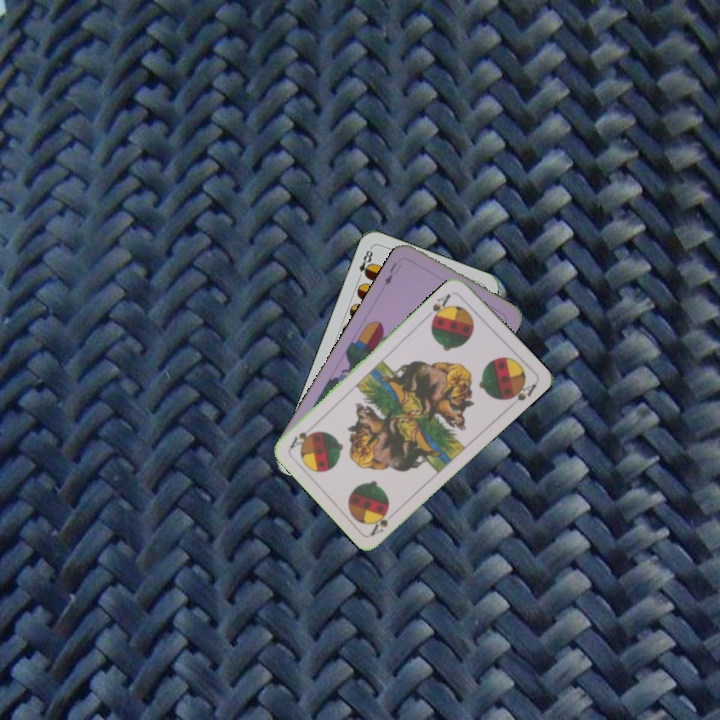E8: (353, 244, 376, 283)
EU: (381, 258, 403, 288)
SA: (366, 504, 400, 538), (422, 289, 454, 324)
